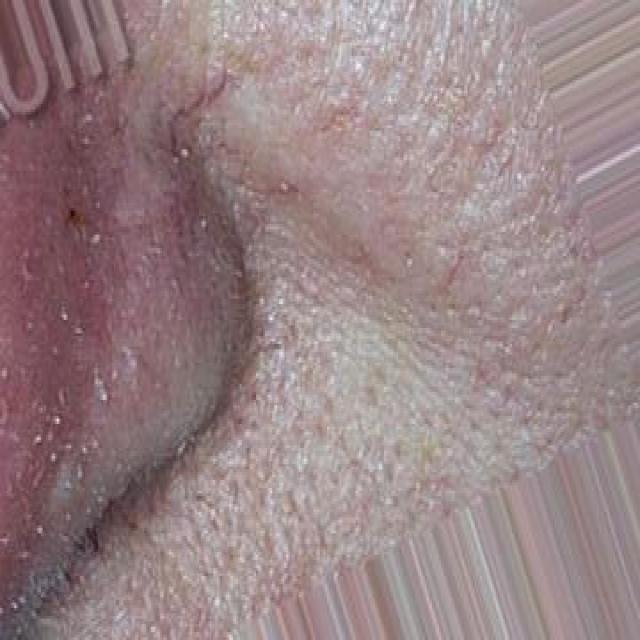Rosacea: (0, 117, 197, 596)
